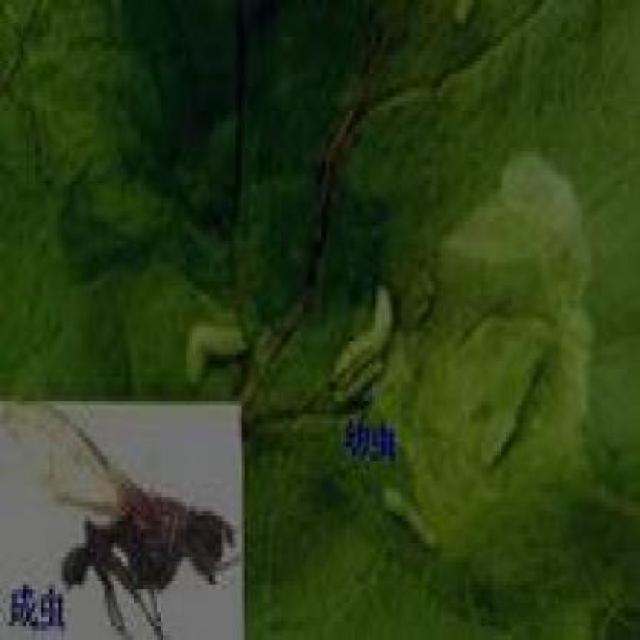whorl-maggot: (325, 280, 397, 414), (177, 312, 249, 388), (381, 478, 444, 562)
